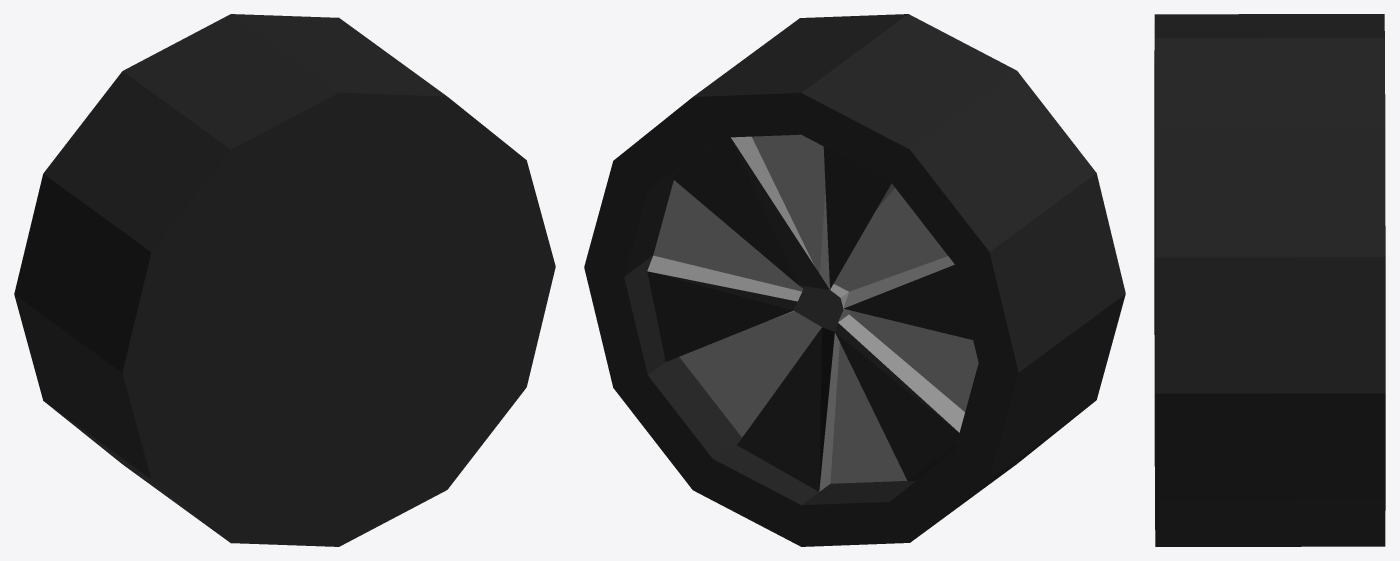
File: Wheel.glb
The picture shows the model from 3 angles, left to right: view 1: azimuth 30°, elevation 25°; view 2: azimuth 150°, elevation 25°; view 3: azimuth 270°, elevation 25°; orthographic projection. The views are drawn at different scales.
Parts seen in each view (by area): view 1: wheel; view 2: wheel; view 3: wheel.
Boxes of the visible parts, left/top/right/bottom form: wheel: left=14, top=14, right=555, bottom=546; wheel: left=584, top=14, right=1125, bottom=546; wheel: left=1154, top=14, right=1385, bottom=546.
Size of the model in its own units: 1.58 by 1.58 by 0.683.
1 material, 1 textured.
